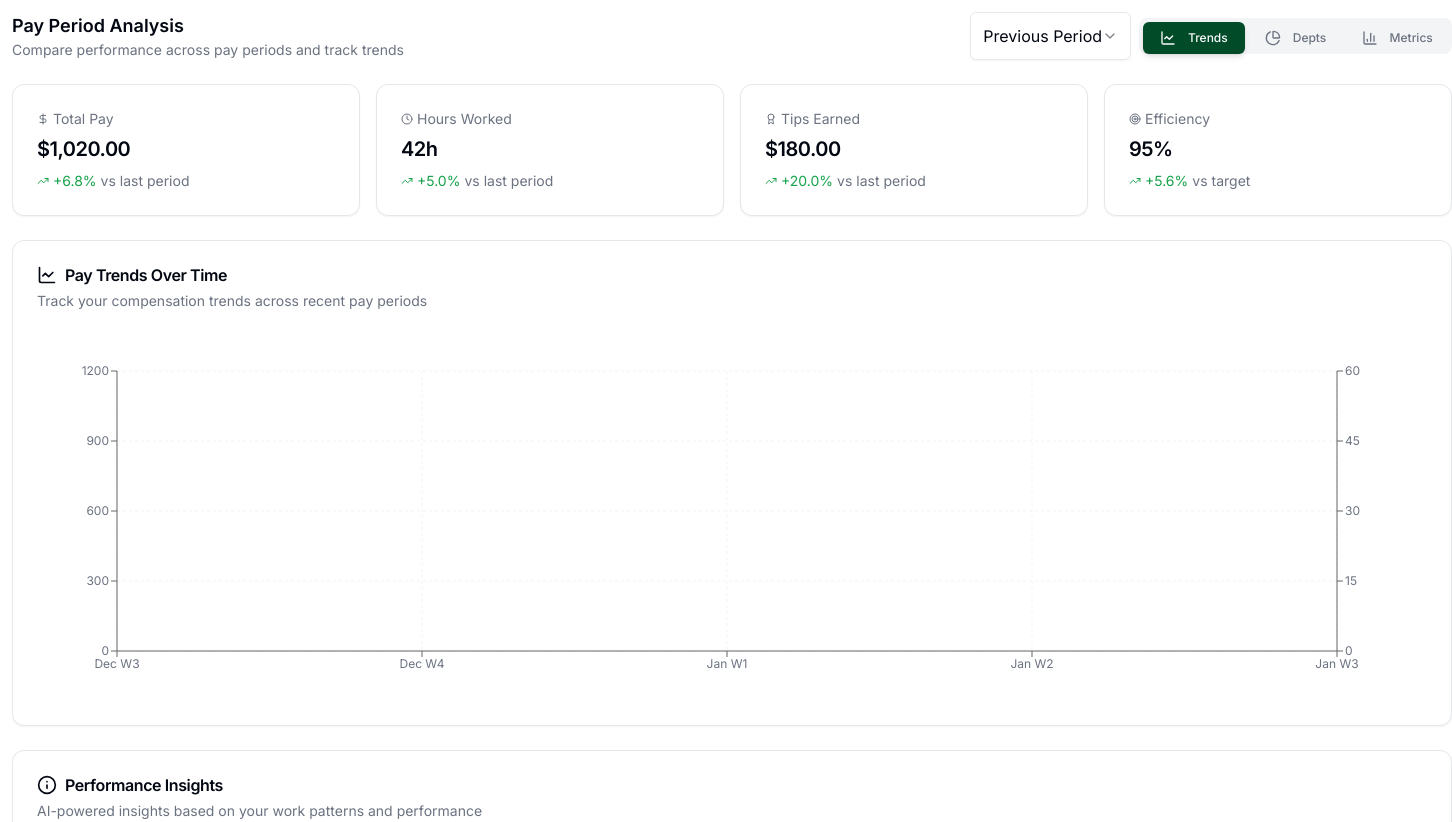
Test: PayPeriodAnalysis › allows switching between chart views
The image size is (1452, 822).
Check: the text "Pay Trends Over Time" is shown, box [37,265,227,285]
Click the tab "Depts".
click(1296, 38)  # box [1245,22,1346,54]
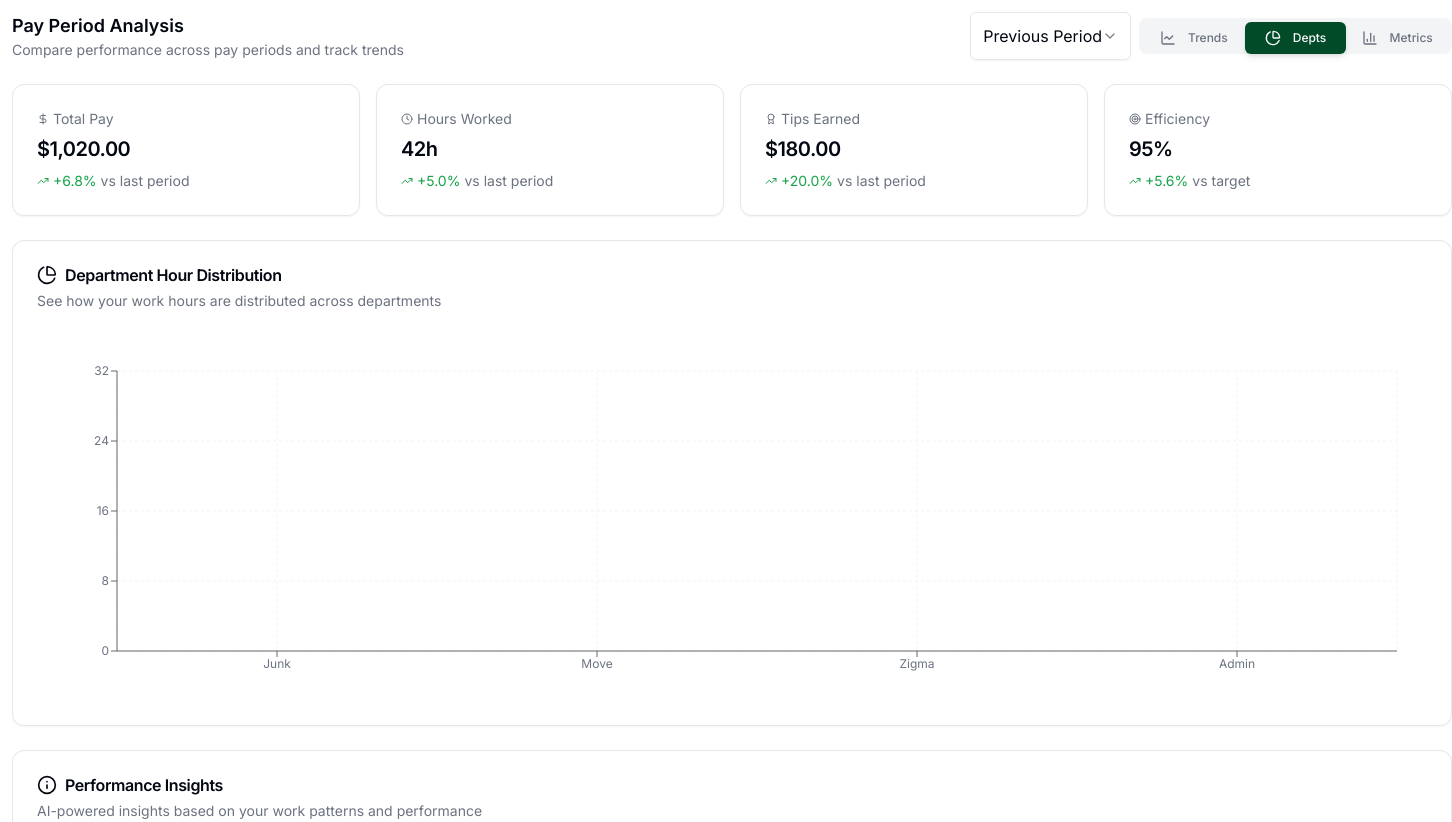
Check: the text "Department Hour Distribution" is shown, box [37,265,282,285]
Click the tab "Metrics".
click(1397, 38)  # box [1346,22,1448,54]
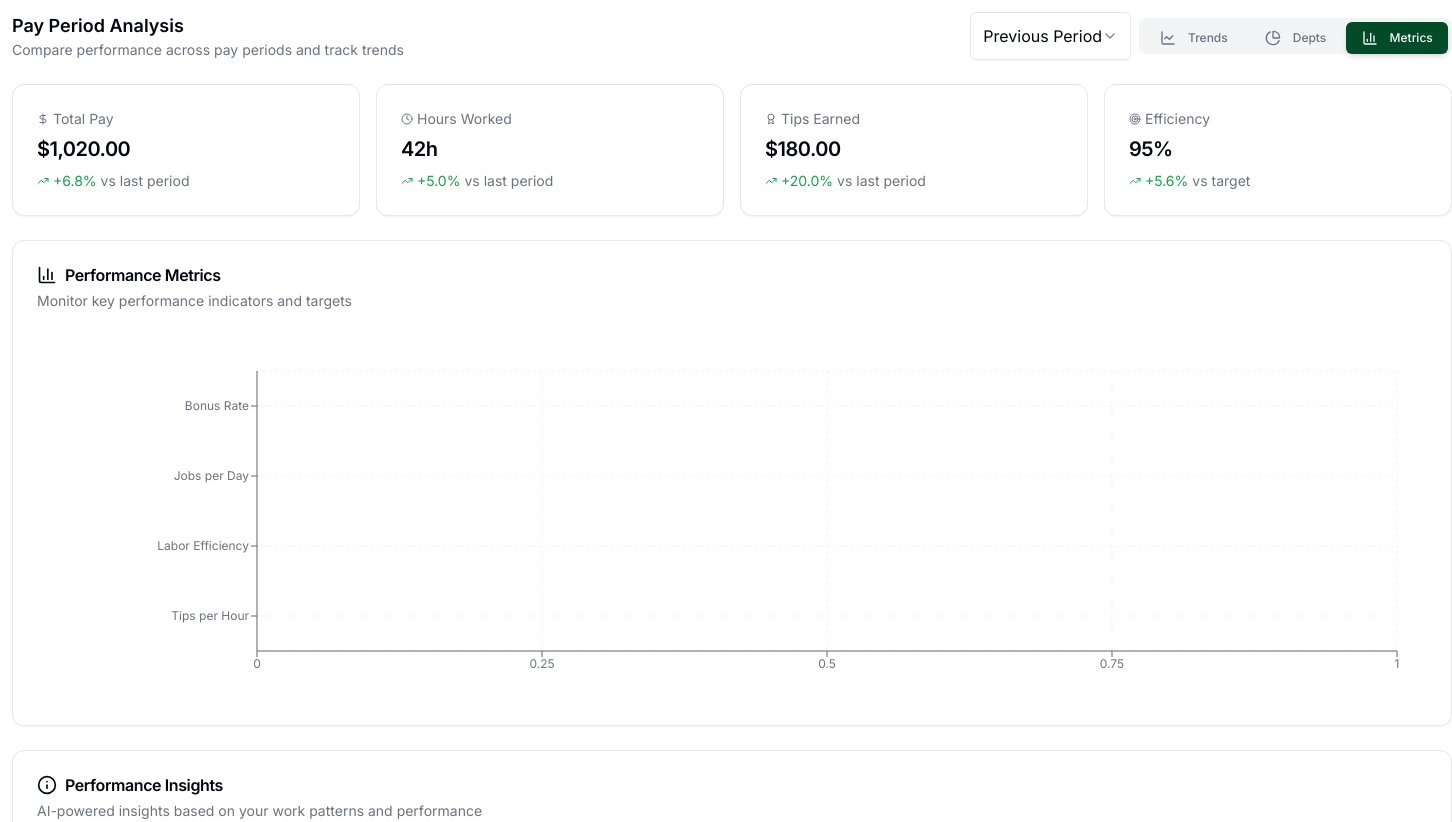
Check: the text "Performance Metrics" is shown, box [37,265,221,285]
